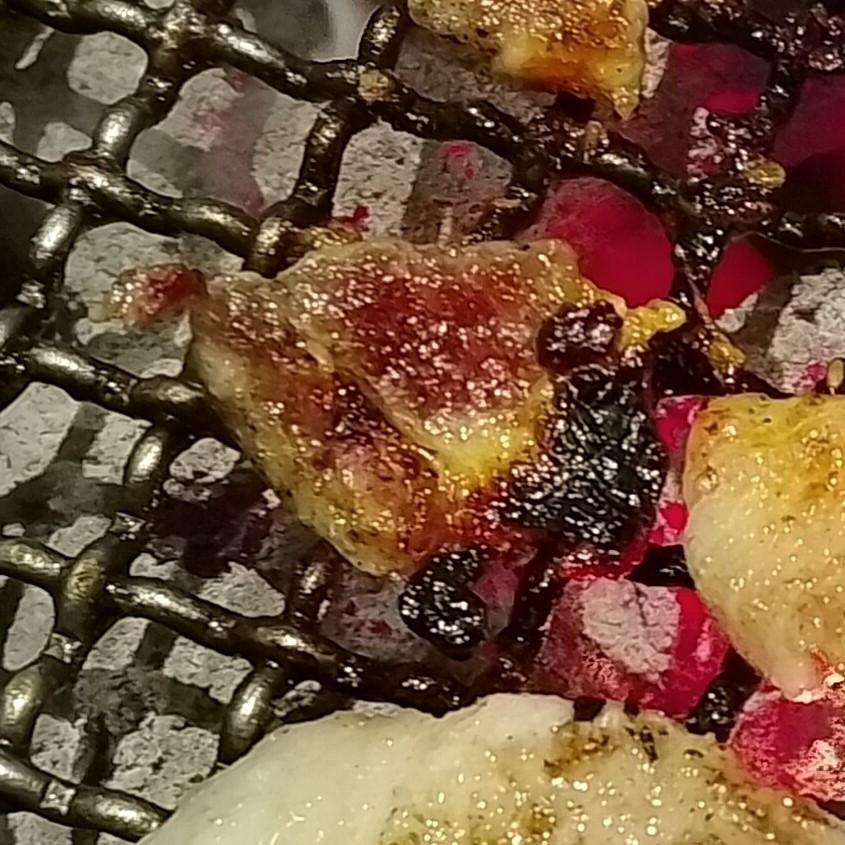Overcooked: (110, 228, 685, 655)
Well-Cooked: (140, 694, 844, 844), (680, 394, 844, 702)
